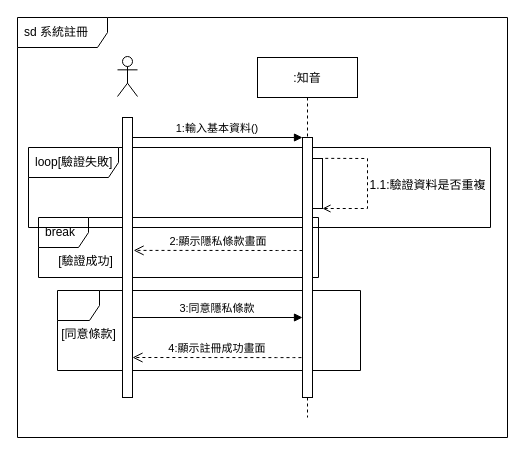
Image size: 525x455. Some labels were removed from this diagram. The box of each missing label's shape, as (x1, y1, x2, y2) in pixels:
opt: (56, 290, 360, 370)
user: (116, 56, 138, 96)
